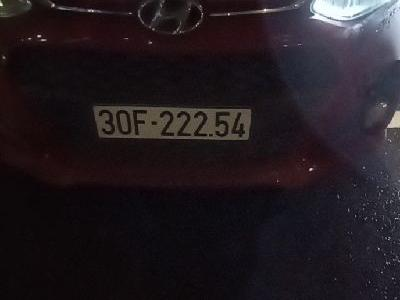number: (93, 104, 252, 142)
